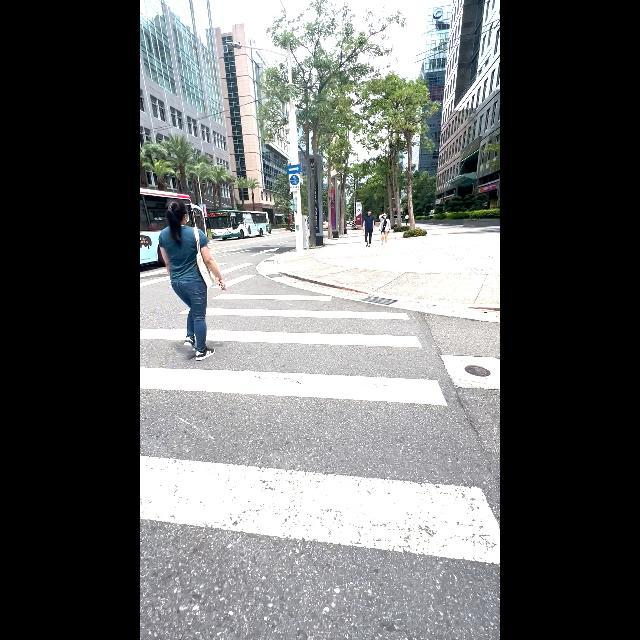sidewalk: (140, 288, 500, 569)
